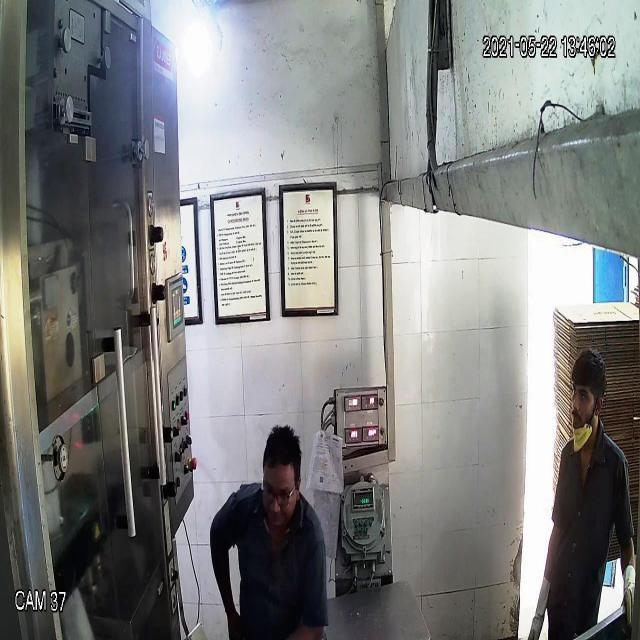hairnet: (570, 412, 596, 446)
